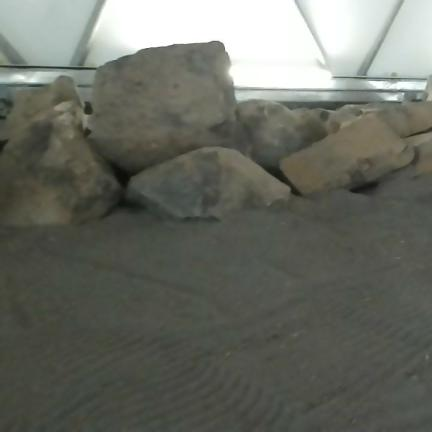Rock: (89, 42, 245, 173), (0, 99, 122, 226), (126, 147, 290, 218), (280, 114, 413, 195), (237, 100, 329, 170), (357, 132, 431, 200), (5, 76, 82, 139), (336, 101, 431, 137)
